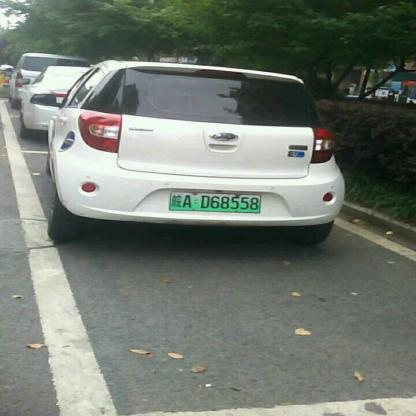lp: (170, 192, 260, 211)
